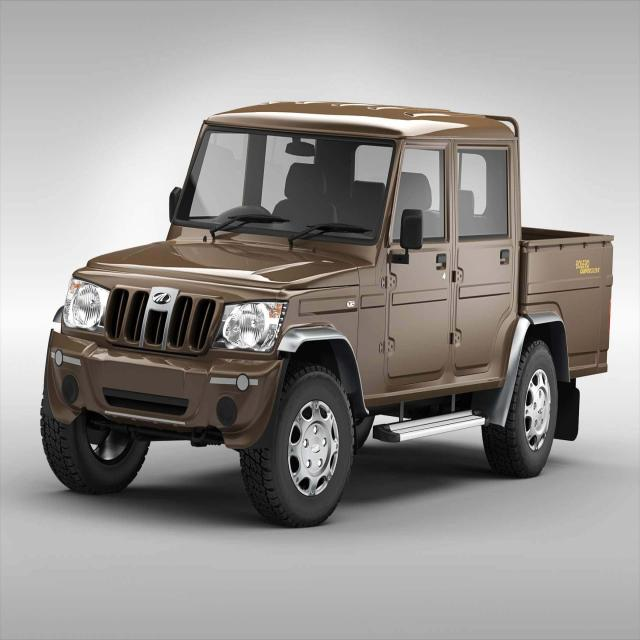light_vehicle: (40, 92, 617, 532)
